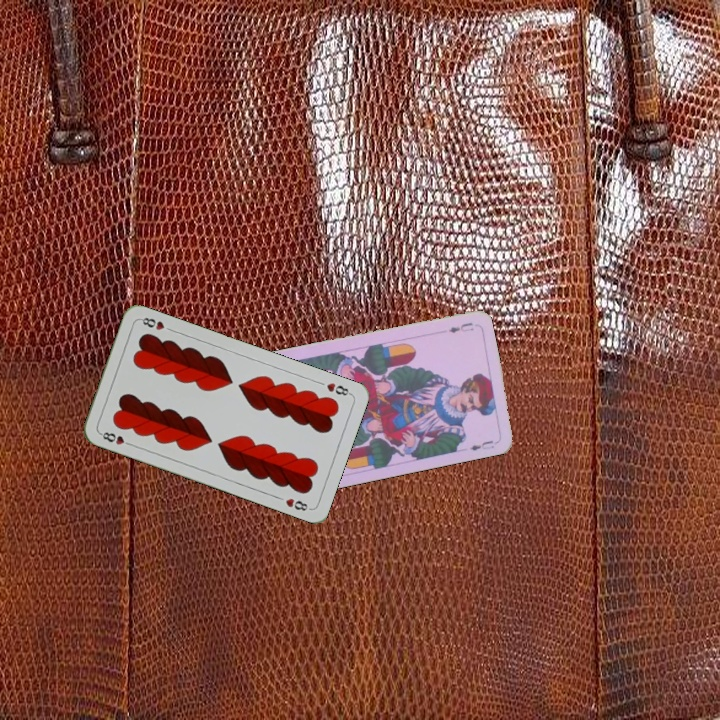EU: (445, 318, 476, 336)
H8: (96, 428, 135, 449), (322, 379, 354, 398)
